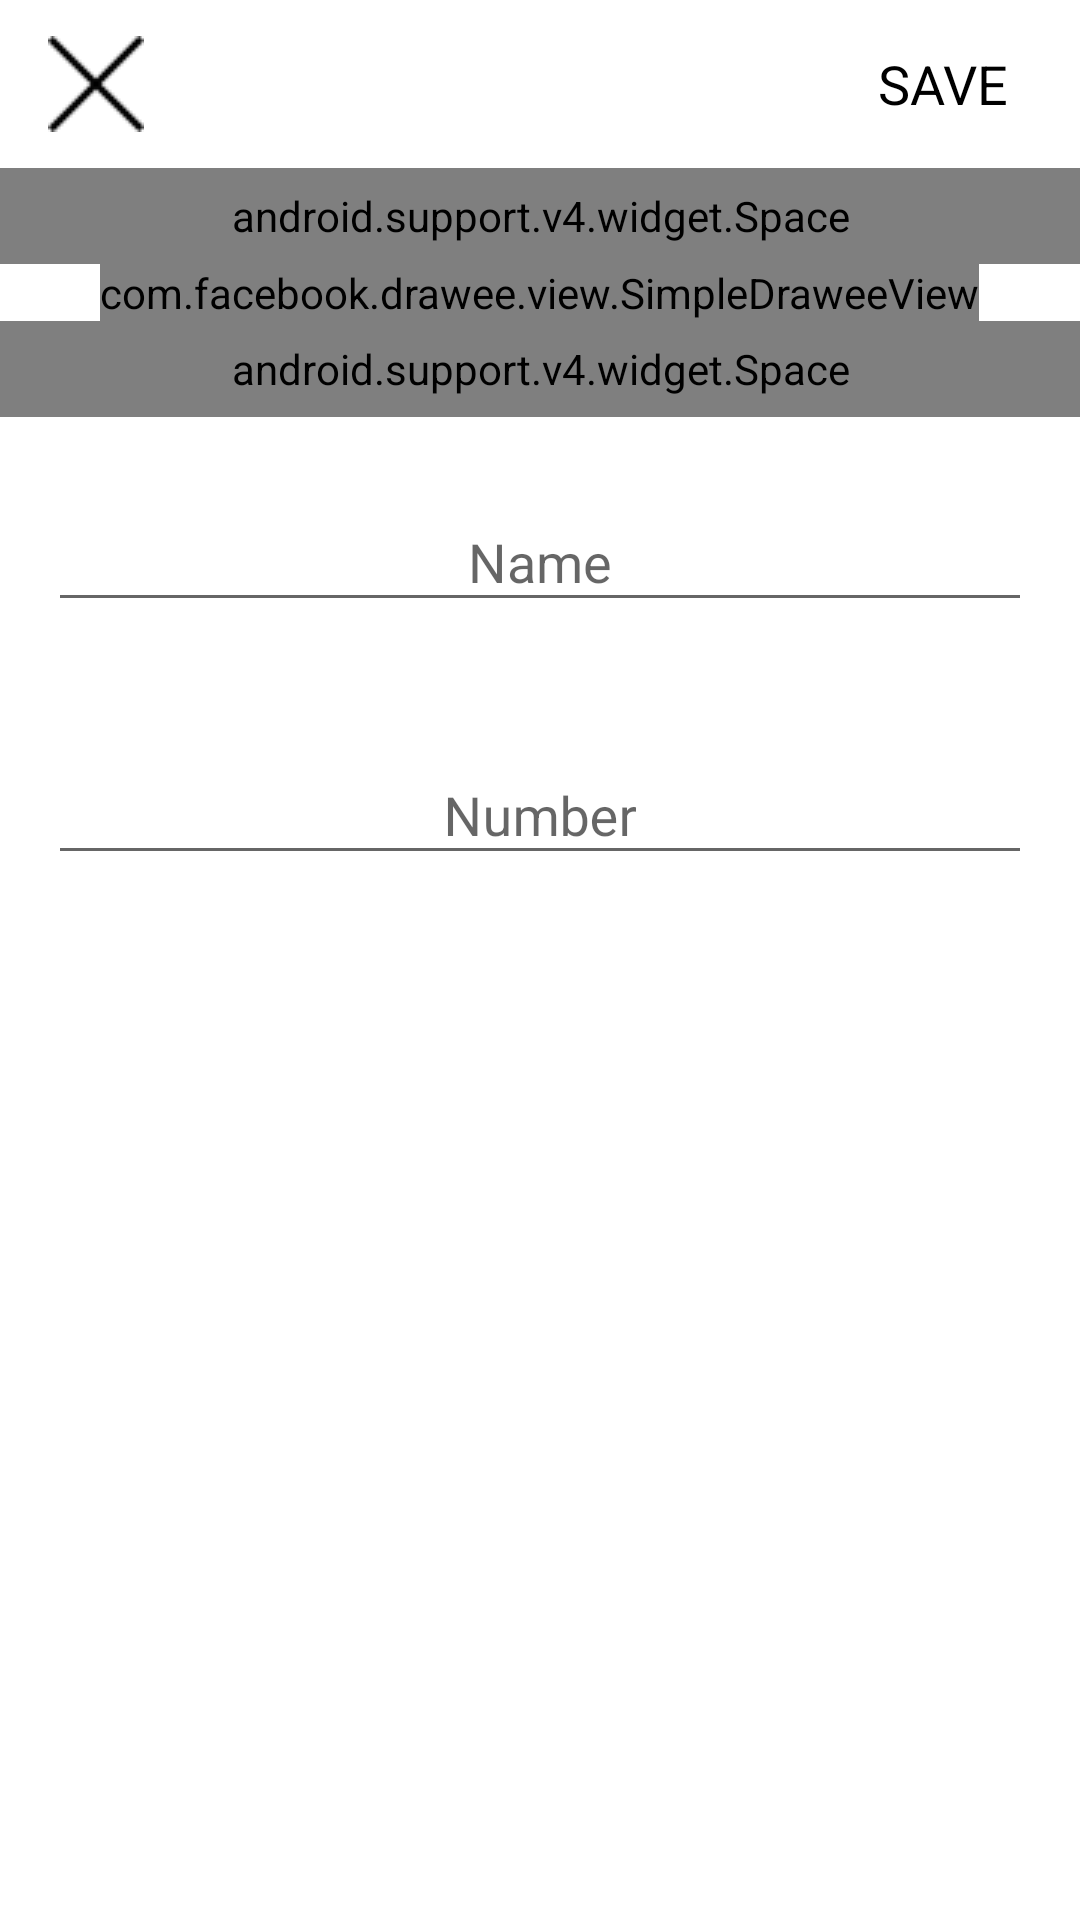

Locate icon controls on the screen. Image size 1080 × 1920, boxes as (x1, y1, x2, y2).
cancel: (48, 36, 144, 132)
